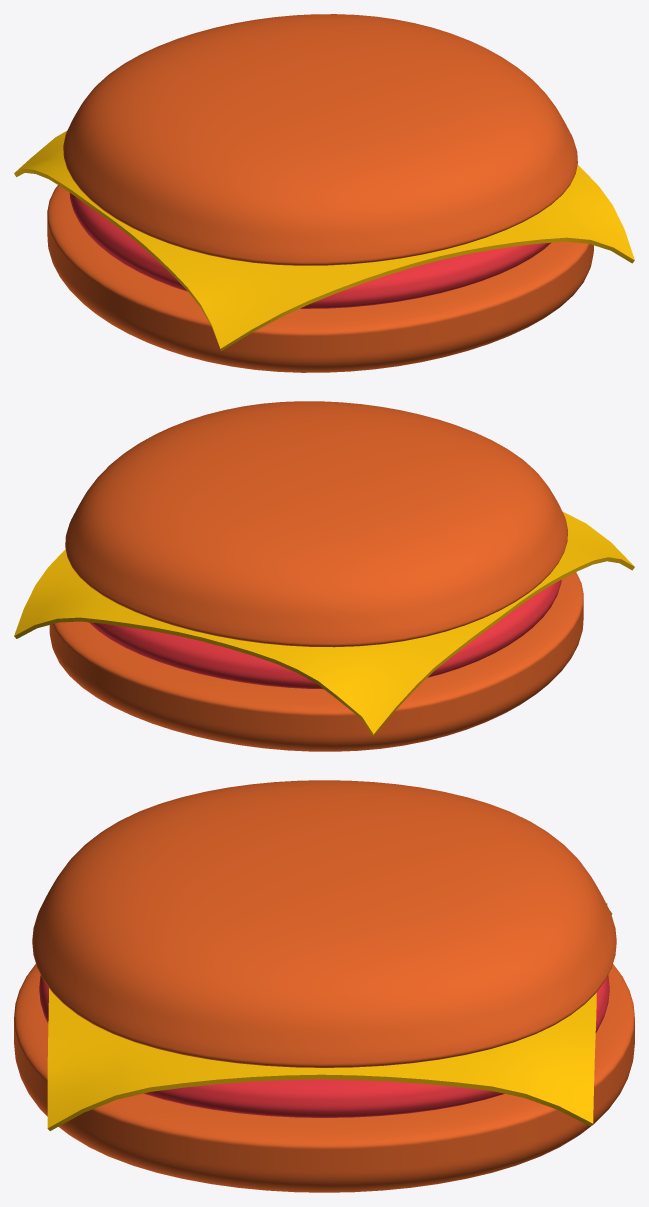
Rendered from hamburger.glb.
The picture shows the model from 3 angles, top to bottom: view 1: azimuth 30°, elevation 25°; view 2: azimuth 150°, elevation 25°; view 3: azimuth 270°, elevation 25°; orthographic projection. The views are drawn at different scales.
Visible parts, largest first — view 1: Cube.002, Cube, Plane, Cube.001; view 2: Cube.002, Cube, Plane, Cube.001; view 3: Cube.002, Cube, Plane, Cube.001.
Boxes of the visible parts, box(x1,y1,x2,y2) form: Cube.002: box(63, 14, 577, 265); Cube: box(47, 185, 593, 372); Plane: box(14, 131, 634, 350); Cube.001: box(69, 193, 550, 308); Cube.002: box(65, 401, 567, 647); Cube: box(49, 572, 583, 751); Plane: box(14, 511, 634, 736); Cube.001: box(89, 579, 561, 689); Cube.002: box(32, 780, 616, 1067); Cube: box(14, 964, 634, 1192); Plane: box(47, 903, 612, 1130); Cube.001: box(39, 975, 609, 1117).
Size of the model in its own units: 9.13 by 3.97 by 9.13.
